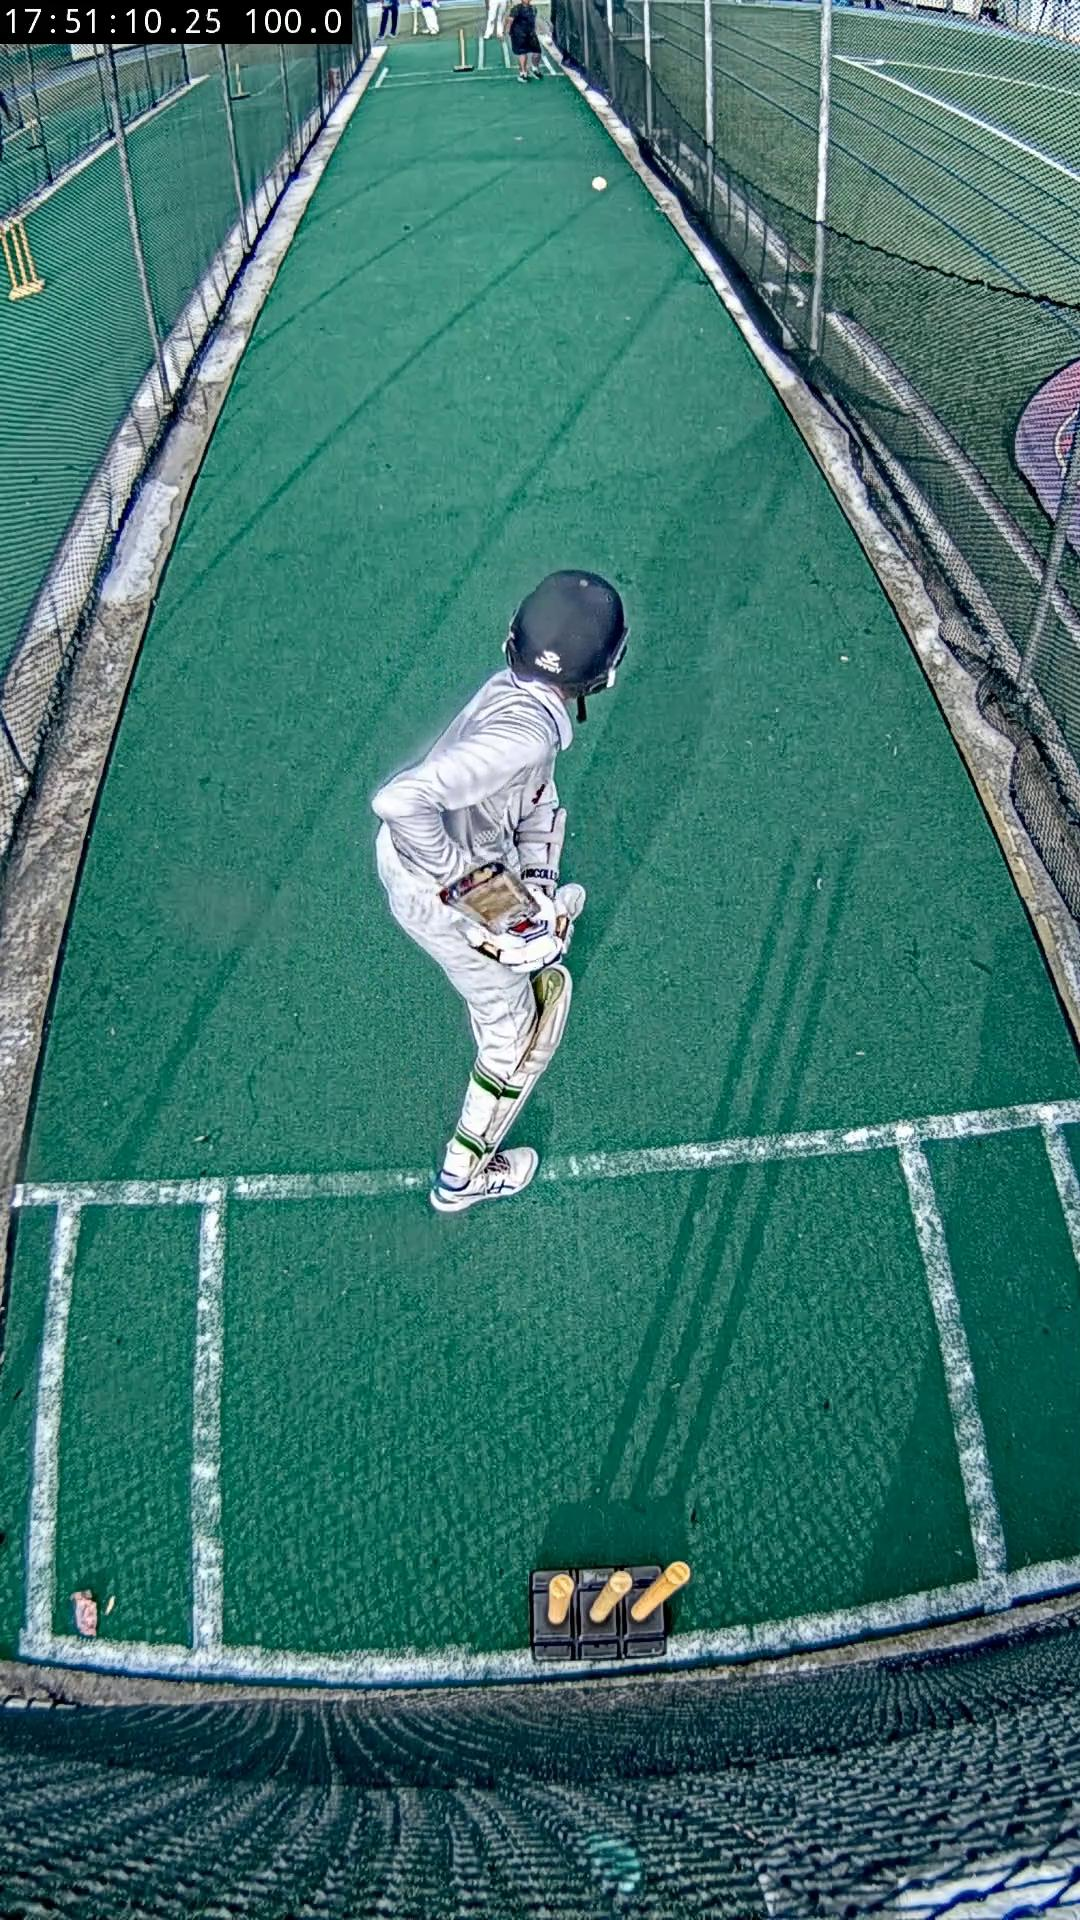ball: (592, 177, 608, 191)
bat: (439, 862, 541, 934)
gloves: (465, 881, 585, 975)
helmet: (506, 570, 626, 698)
pads: (484, 964, 574, 1150)
stumps: (533, 1564, 690, 1662)
